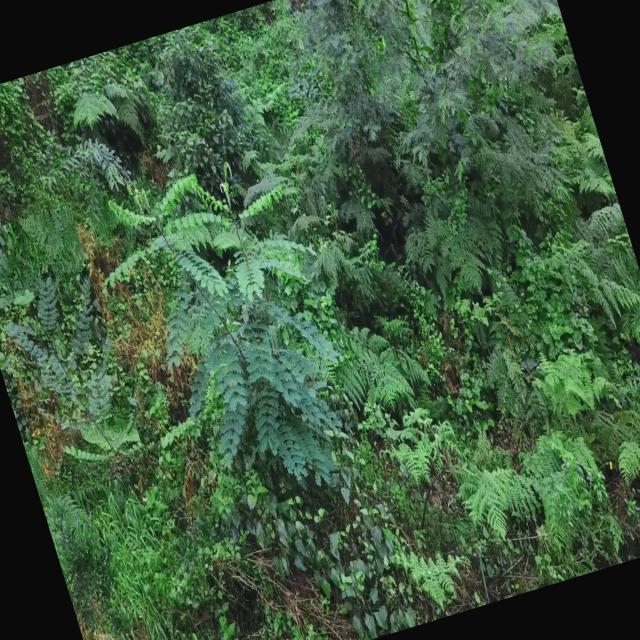Mysore-Thorn-Weed: (76, 132, 386, 538), (0, 204, 149, 498)
